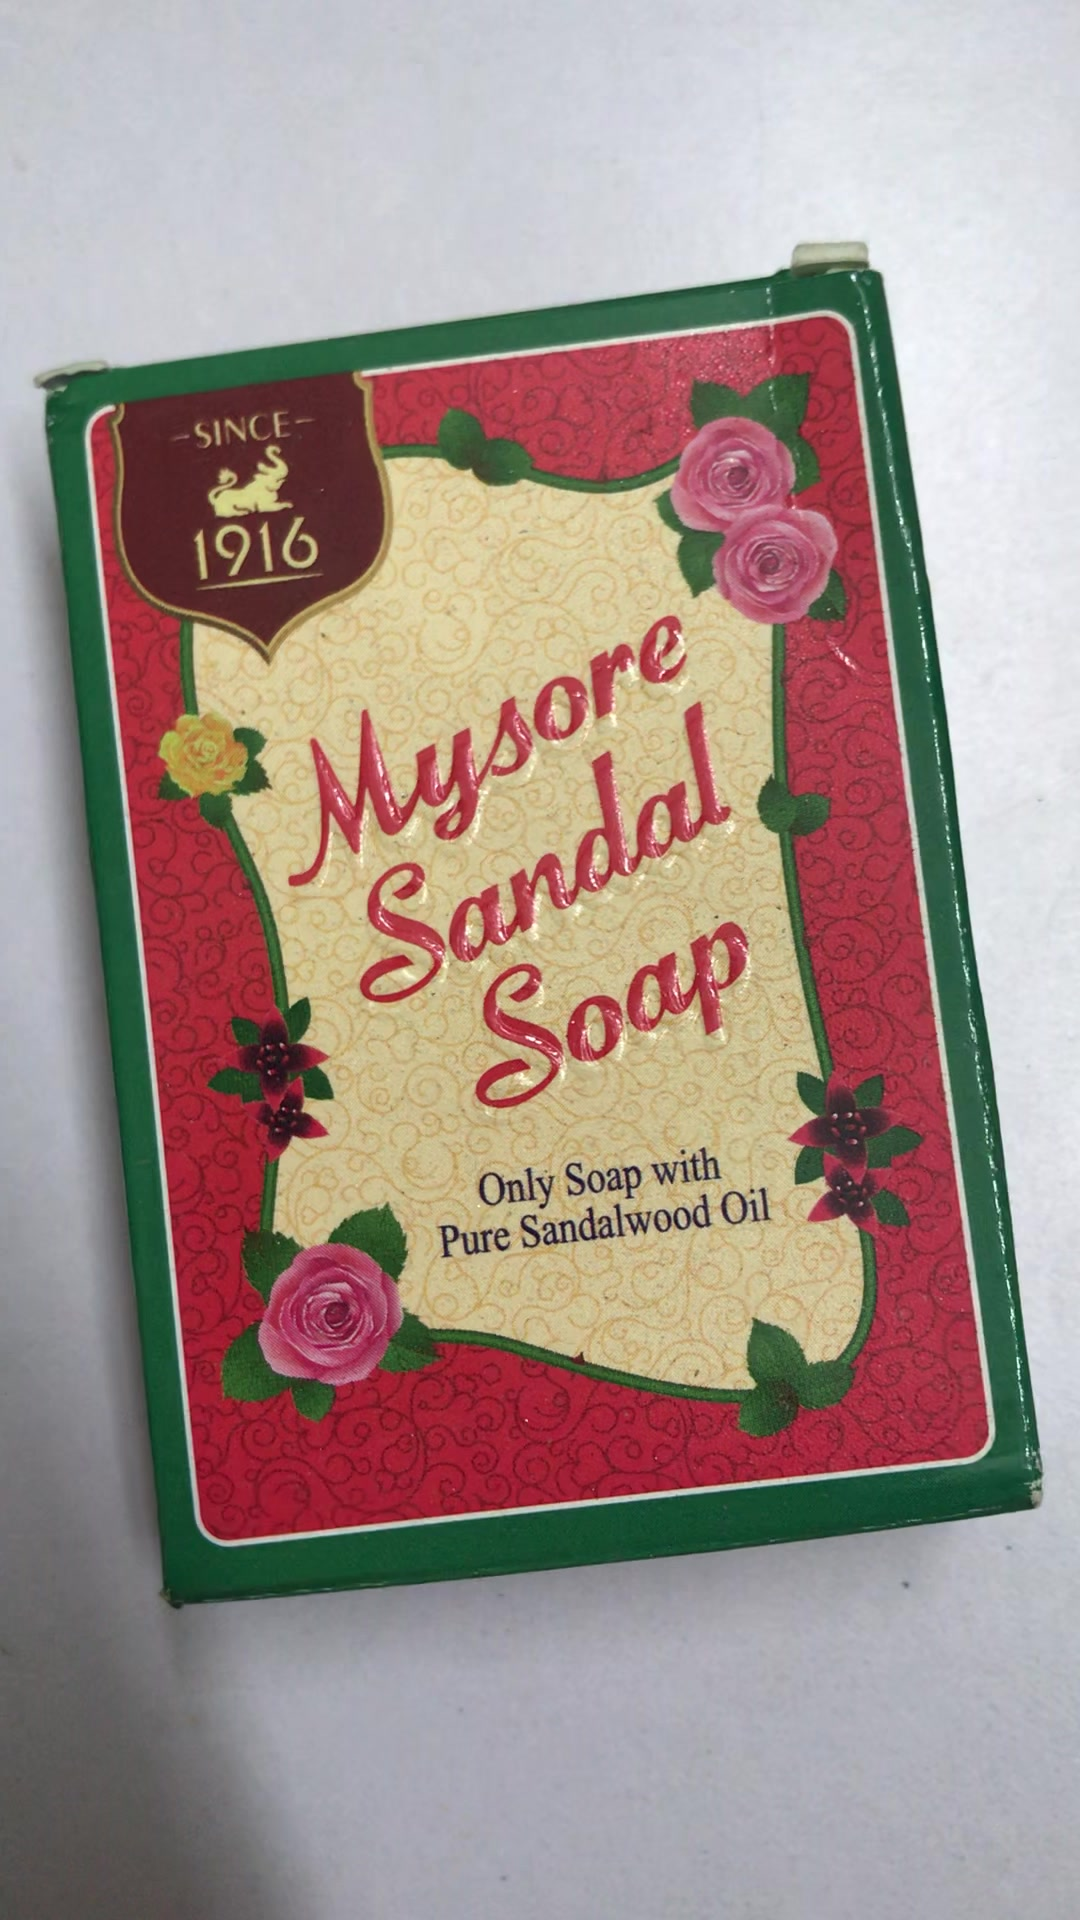mysore sandal soap: (40, 258, 1044, 1606)
